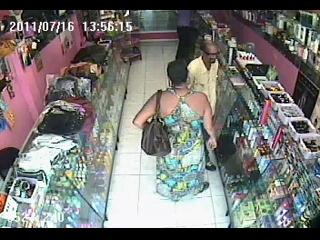Normal: (132, 60, 218, 202), (187, 40, 223, 123), (141, 90, 171, 158), (174, 11, 200, 64)
